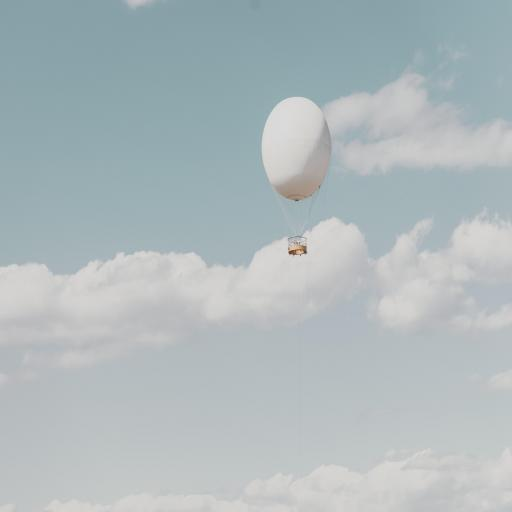hot air ballon: (262, 94, 332, 254)
